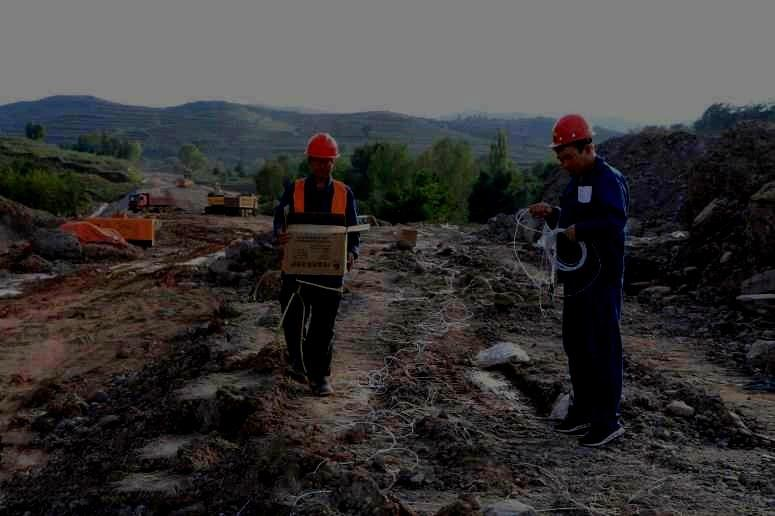helmet: (548, 115, 597, 176), (304, 131, 340, 179)
